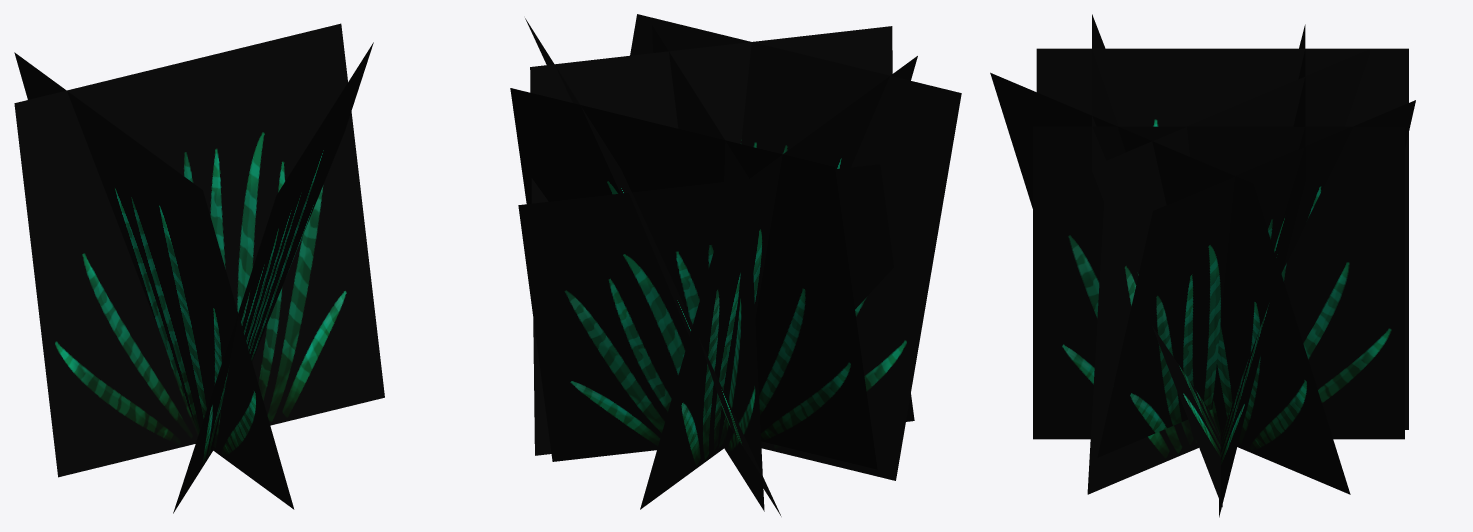
File: VegetationGroupBush01(SimpleMesh).fbx
The picture shows the model from 3 angles, left to right: view 1: azimuth 30°, elevation 25°; view 2: azimuth 150°, elevation 25°; view 3: azimuth 270°, elevation 25°; orthographic projection.
Parts seen in each view (by area): view 1: BushGrass02; view 2: BushGrass02; view 3: BushGrass02.
Part boxes in pixels (x1,y1,x2,y2): BushGrass02: (14,23,384,513); BushGrass02: (510,14,961,516); BushGrass02: (990,14,1415,517).
Bounding box in the file's own units: 62.67 × 50 × 62.99.
